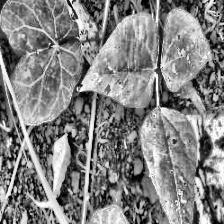ALS: (89, 13, 160, 110), (138, 105, 194, 224), (162, 12, 216, 90)
